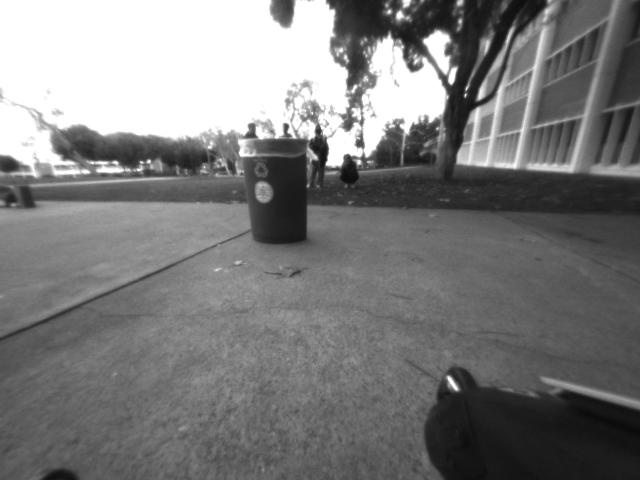trashcan_open: (233, 131, 314, 252)
